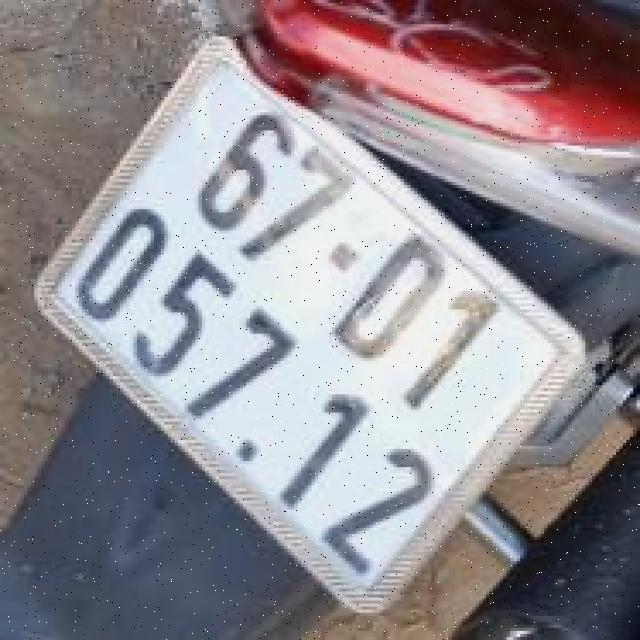0: (65, 194, 186, 334)
1: (383, 277, 522, 426), (262, 380, 393, 528)
2: (304, 428, 463, 594)
5: (119, 239, 250, 389)
6: (182, 102, 310, 239)
7: (159, 296, 314, 435), (228, 139, 369, 280)
D: (322, 223, 467, 371)
